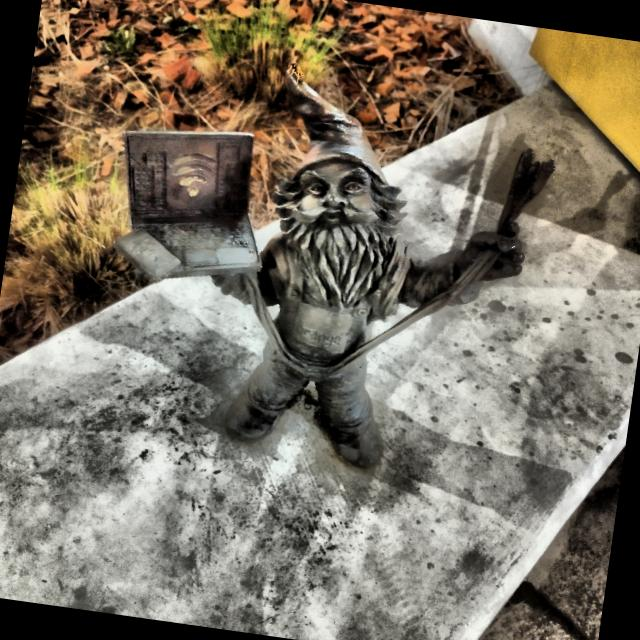Krasnal_Teleclaw: (115, 64, 554, 469)
